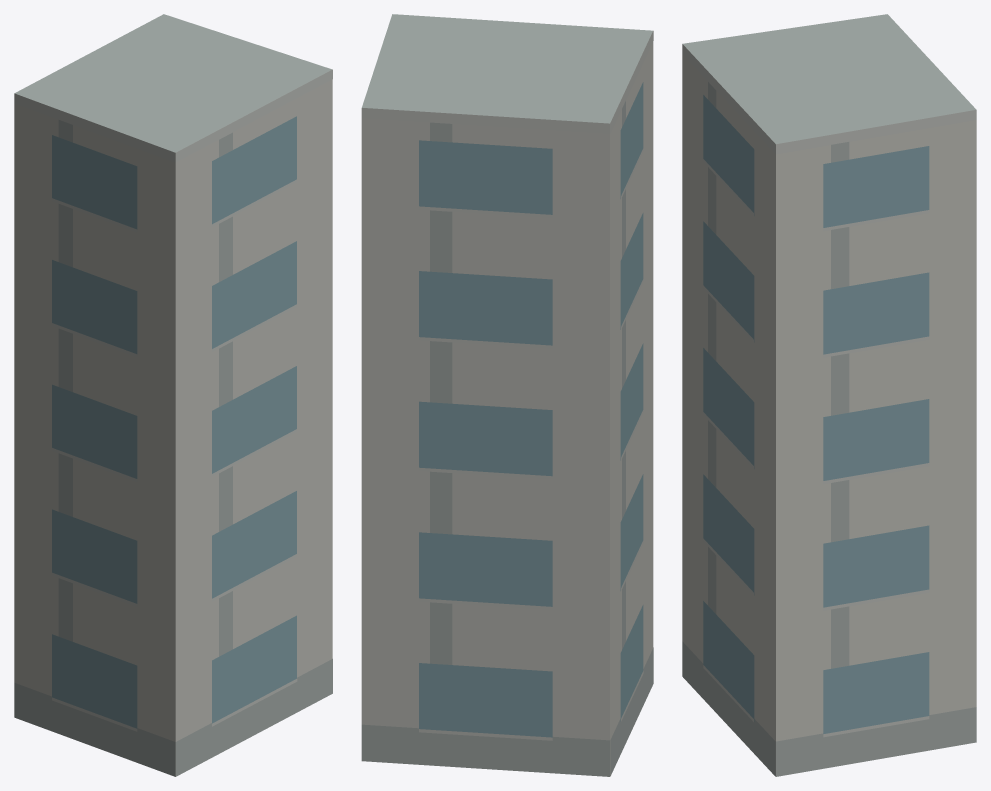
File: survey-upis-32647314.glb
The picture shows the model from 3 angles, left to right: view 1: azimuth 30°, elevation 25°; view 2: azimuth 150°, elevation 25°; view 3: azimuth 270°, elevation 25°; orthographic projection. The views are drawn at different scales.
Visible parts, largest first — view 1: survey-upis-32647314.tmp; view 2: survey-upis-32647314.tmp; view 3: survey-upis-32647314.tmp.
Part boxes in pixels (box(x1,y1,x2,y2)): survey-upis-32647314.tmp: box(14, 14, 332, 776); survey-upis-32647314.tmp: box(361, 14, 653, 776); survey-upis-32647314.tmp: box(682, 14, 976, 776).
Size of the model in its own units: 6.74 by 15.25 by 6.44.
